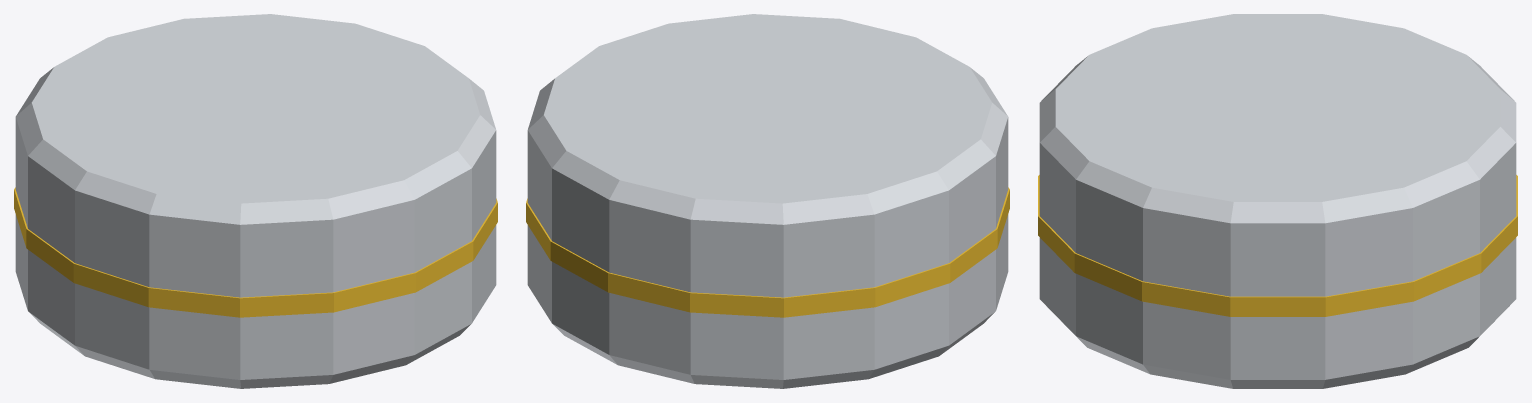
File: cake.glb
3 renders of one model, left to right at view 1: azimuth 30°, elevation 25°; view 2: azimuth 150°, elevation 25°; view 3: azimuth 270°, elevation 25°, orthographic.
Parts seen in each view (by area): view 1: cake; view 2: cake; view 3: cake.
Boxes of the visible parts, x1,y1,x2,y2 form: cake: (14, 14, 497, 388); cake: (526, 14, 1009, 388); cake: (1038, 14, 1517, 388).
Size of the model in its own units: 1.78 by 0.76 by 1.78.
